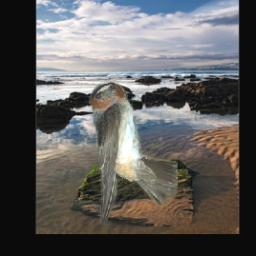Swallow: (90, 81, 179, 226)
